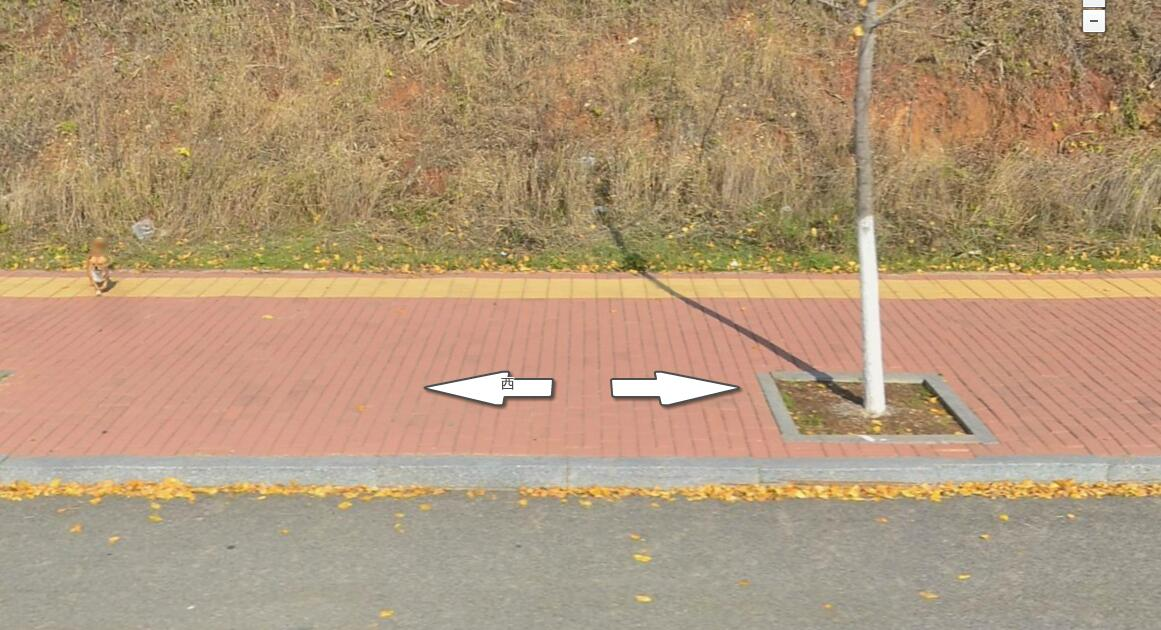side: (1, 457, 217, 489), (392, 455, 571, 492), (572, 456, 762, 489), (939, 456, 1112, 488), (216, 457, 396, 487), (761, 458, 941, 487)
